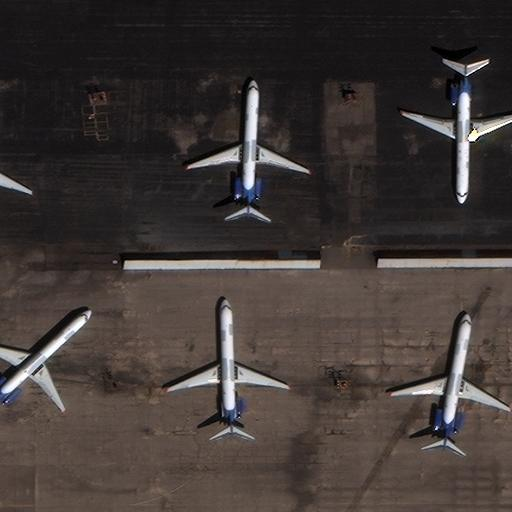Medium Civil Transport: (186, 80, 310, 218), (166, 298, 288, 438), (389, 313, 508, 452), (400, 62, 512, 203), (0, 309, 90, 411), (0, 126, 33, 213)
